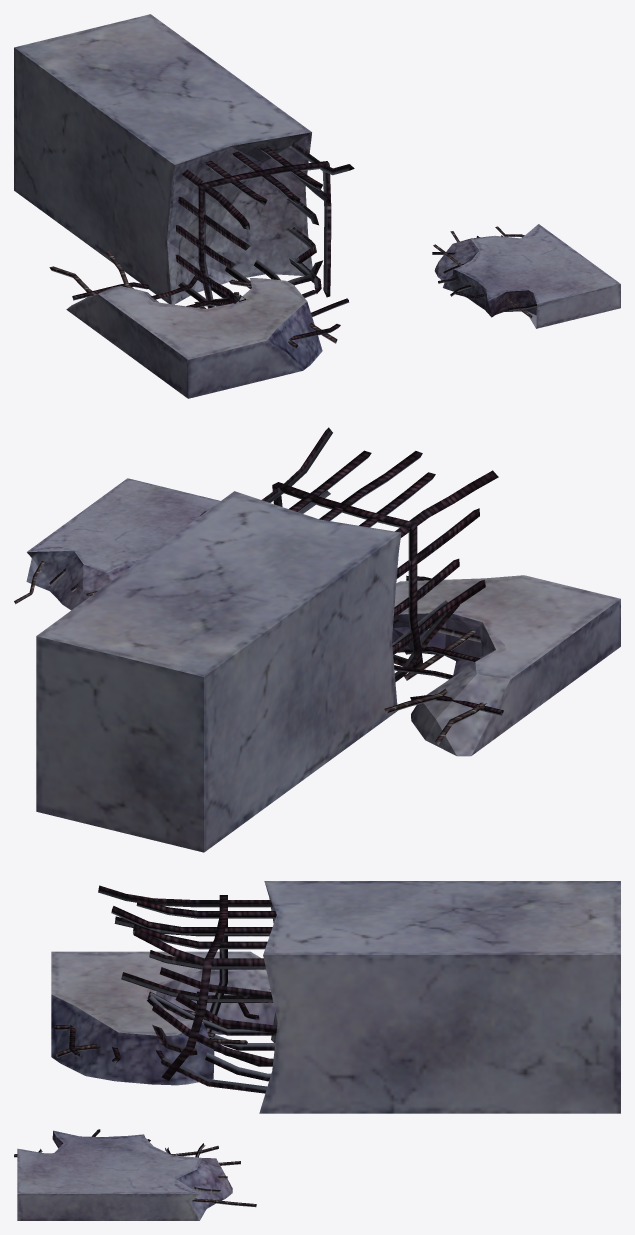
File: gravats_beton.glb
3 views of the same model, one above another, from view 1: azimuth 30°, elevation 25°; view 2: azimuth 150°, elevation 25°; view 3: azimuth 270°, elevation 25° (orthographic). The views are drawn at different scales.
Visible parts, largest first — view 1: Poutre, Dalle, Eclat; view 2: Poutre, Dalle, Eclat; view 3: Poutre, Dalle, Eclat.
Boxes of the visible parts, left/top/right/bottom form: Poutre: left=14, top=14, right=354, bottom=308; Dalle: left=49, top=251, right=349, bottom=398; Eclat: left=432, top=224, right=620, bottom=328; Poutre: left=36, top=427, right=498, bottom=852; Dalle: left=384, top=575, right=620, bottom=756; Eclat: left=14, top=478, right=220, bottom=610; Poutre: left=98, top=881, right=620, bottom=1113; Dalle: left=51, top=951, right=275, bottom=1085; Eclat: left=14, top=1129, right=256, bottom=1220.
Size of the model in its own units: 1.46 by 0.5178 by 1.62.
Materials: 1 (1 with a texture image).
